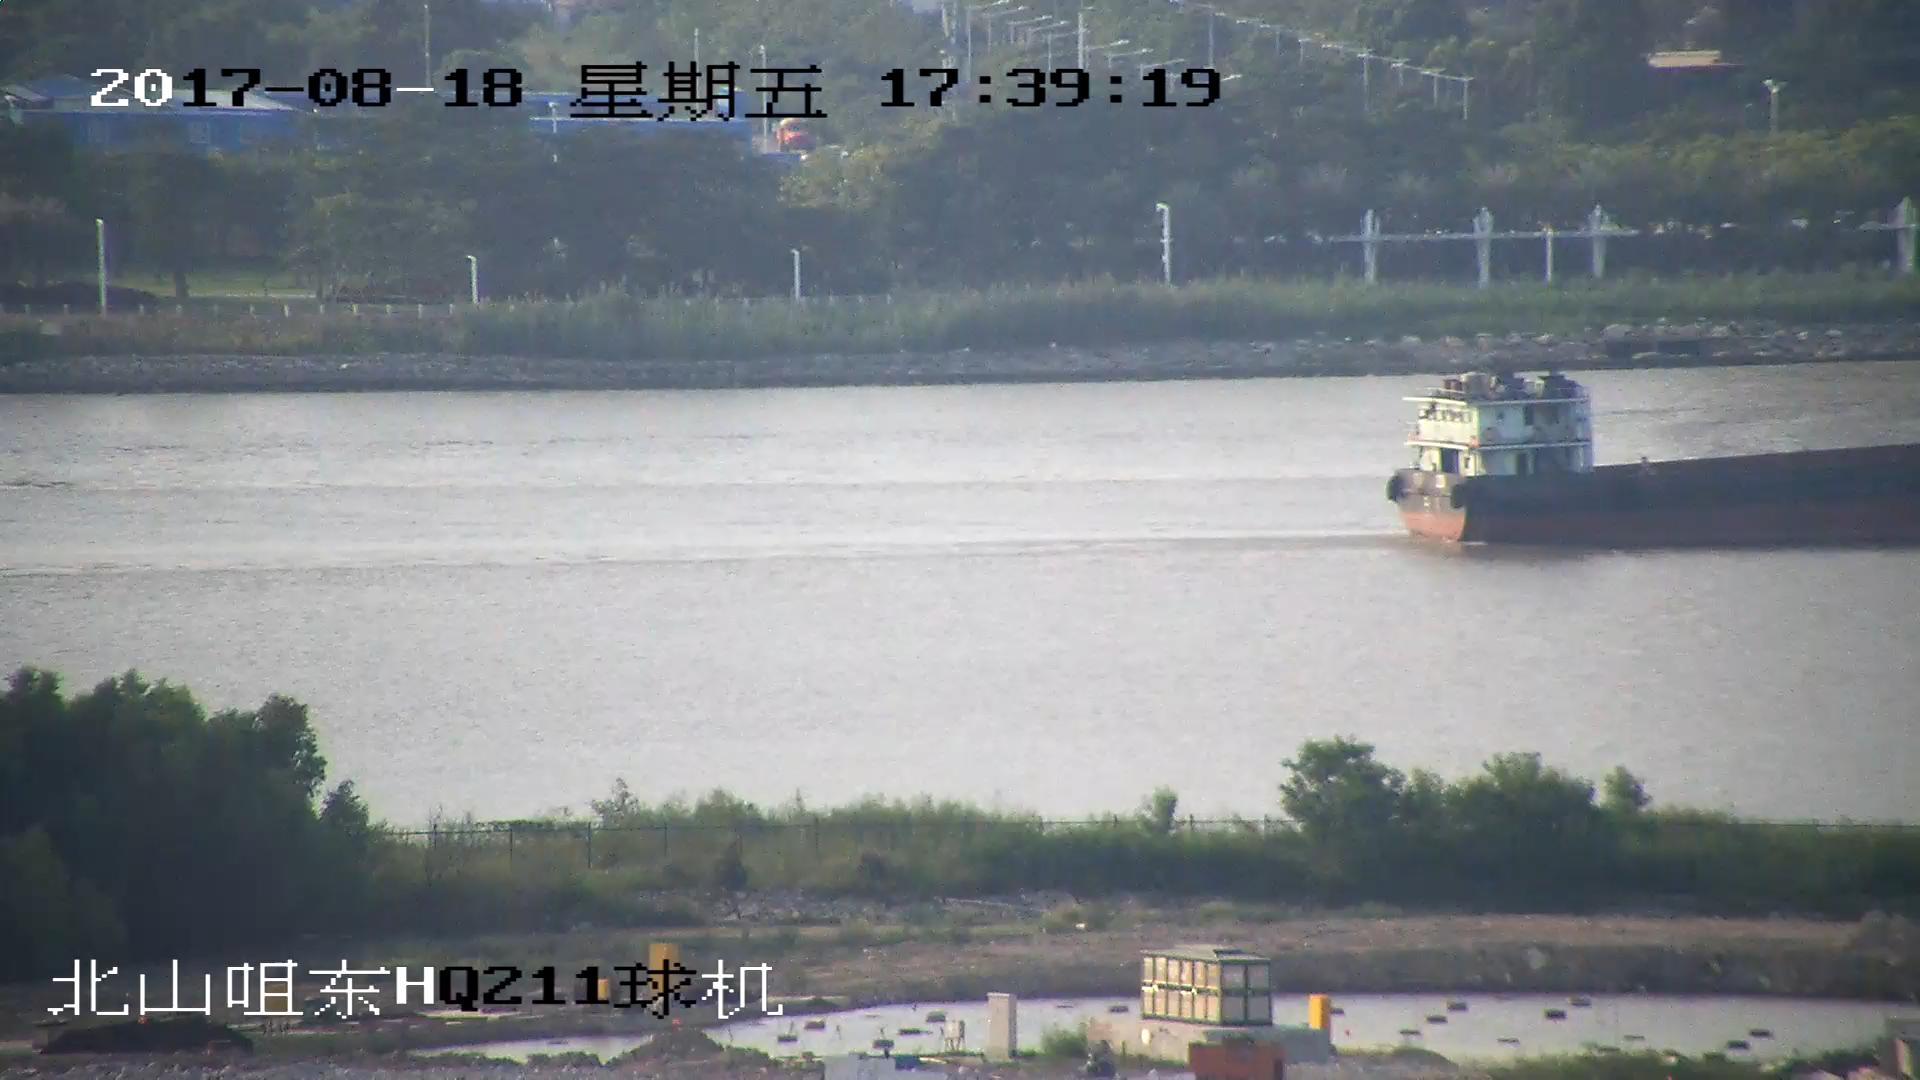general cargo ship: (1389, 373, 1920, 554)
